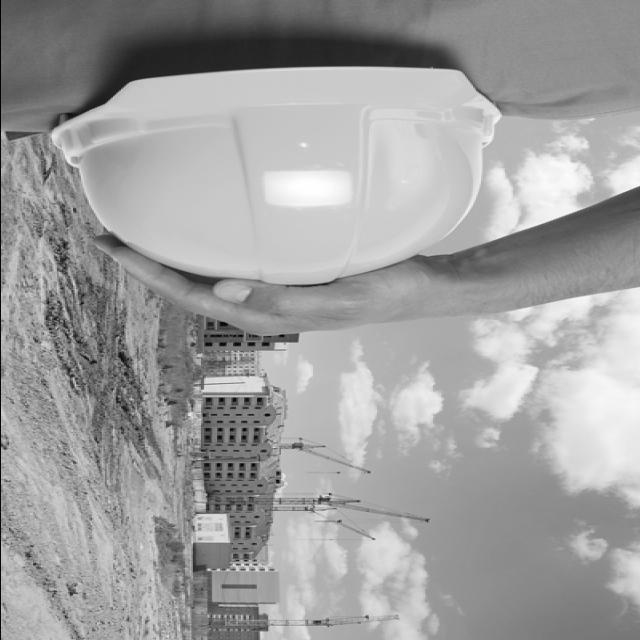safety_helmet: (45, 63, 499, 286)
